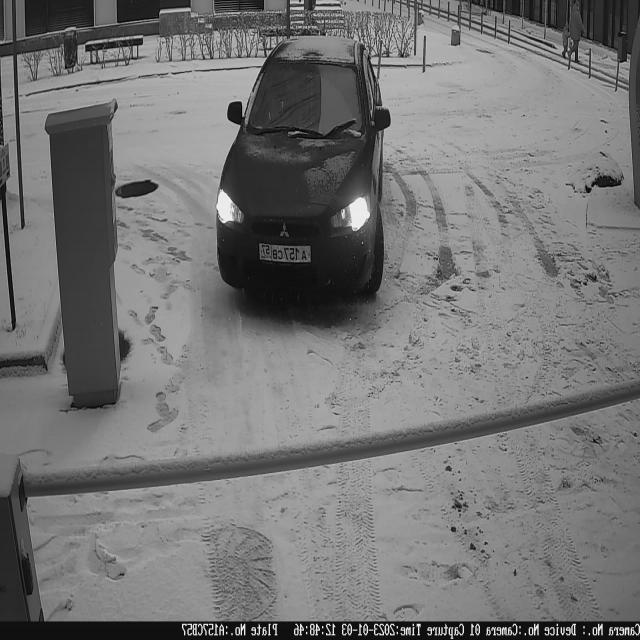car-plate-numbers: (258, 240, 314, 270)
